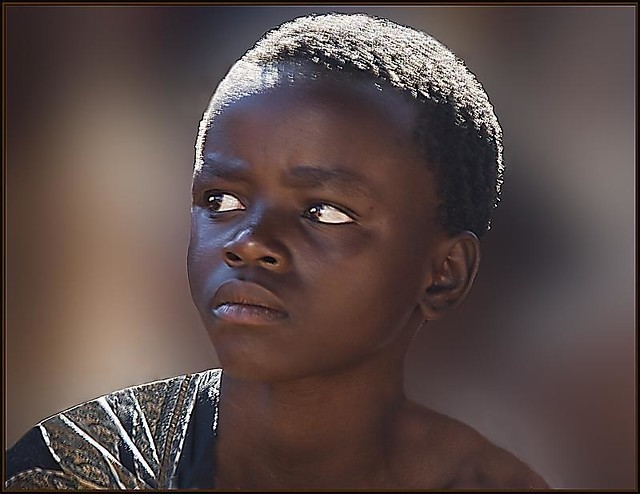face_no_mask: (188, 16, 502, 377)
